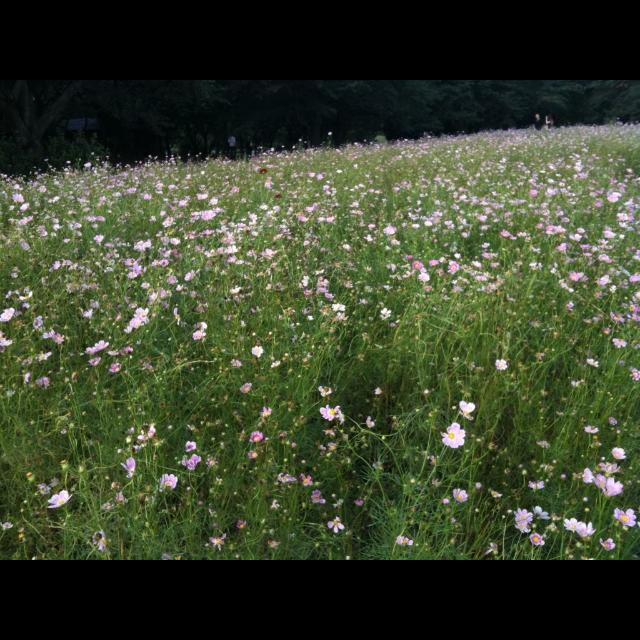Flower: (1, 125, 640, 372), (582, 448, 628, 498), (440, 423, 464, 447), (614, 508, 640, 528), (48, 489, 72, 508), (156, 474, 177, 492), (184, 454, 203, 471), (119, 458, 135, 478), (533, 505, 551, 521), (576, 520, 592, 536), (328, 514, 342, 532), (454, 488, 470, 502), (322, 404, 334, 422), (515, 519, 529, 533), (300, 473, 312, 487), (566, 516, 578, 528), (309, 492, 323, 502), (517, 509, 531, 519), (530, 531, 540, 545), (530, 478, 544, 488), (599, 538, 613, 548), (184, 439, 192, 449), (205, 458, 215, 466), (250, 433, 262, 439), (250, 449, 256, 457)
